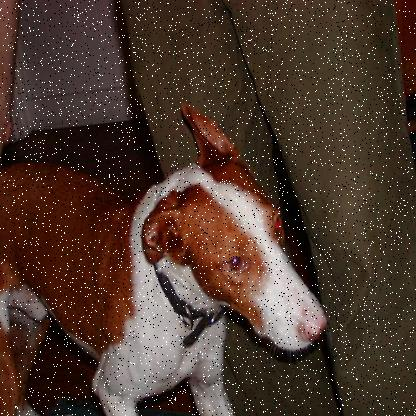dog: (15, 95, 329, 415)
